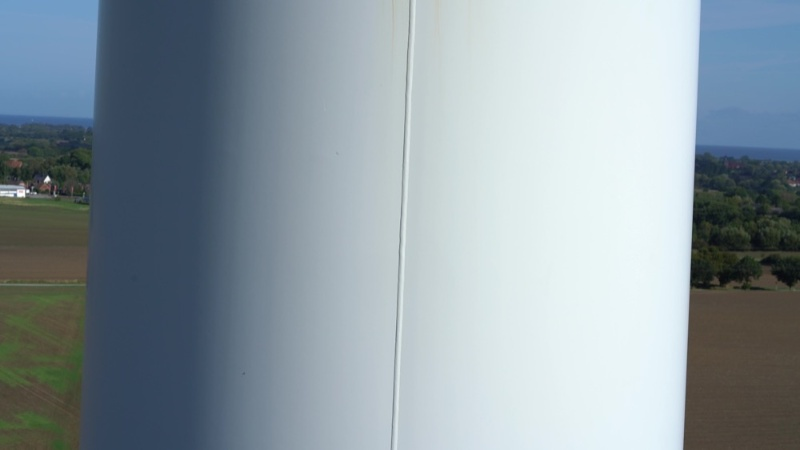weldseam: (386, 1, 420, 450)
